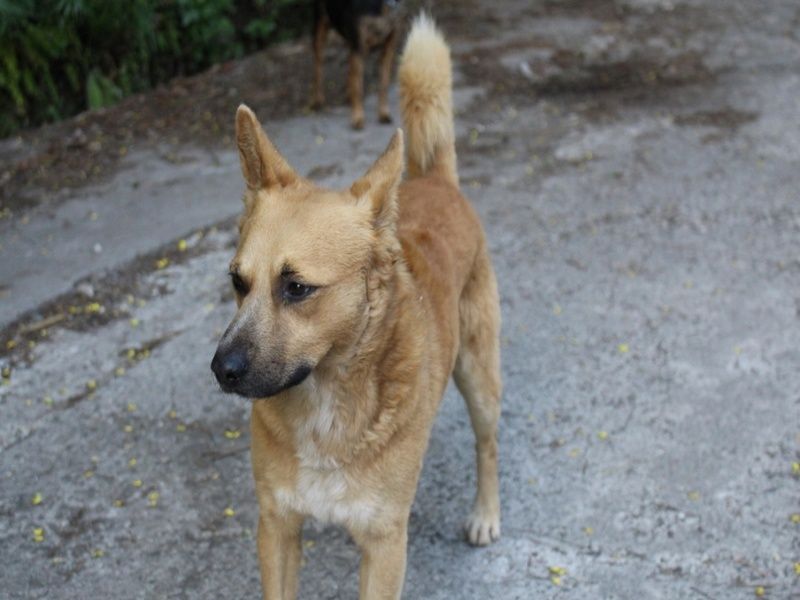dog: (205, 20, 507, 588), (311, 1, 397, 128)
